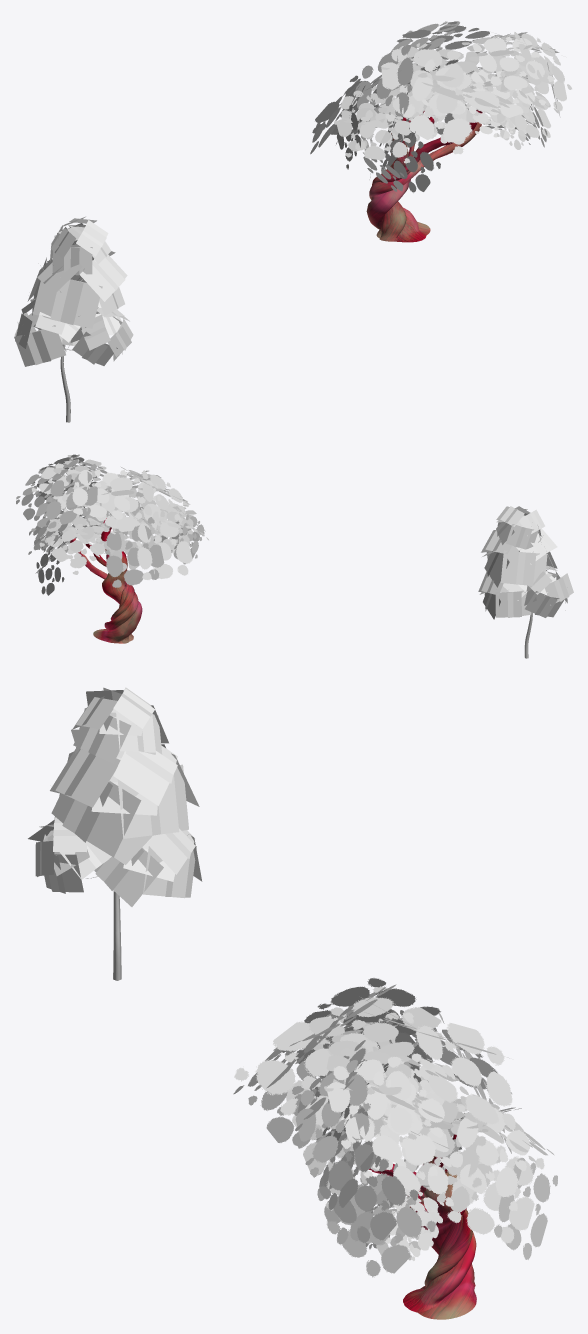
File: testbäume1 (1).fbx
3 views of the same model, one above another, from view 1: azimuth 30°, elevation 25°; view 2: azimuth 150°, elevation 25°; view 3: azimuth 270°, elevation 25° (orthographic). The views are drawn at different scales.
Parts seen in each view (by area): view 1: Plane.002, Plane.005, Untitled-2.2249; view 2: Plane.002, Plane.005, Untitled-2.2249; view 3: Plane.002, Plane.005, Untitled-2.2249.
Boxes of the visible parts, box(x1,y1,x2,y2) form: Plane.002: box(310, 21, 571, 192); Plane.005: box(14, 216, 133, 422); Untitled-2.2249: box(366, 110, 482, 242); Plane.002: box(16, 454, 208, 595); Plane.005: box(478, 506, 573, 658); Untitled-2.2249: box(70, 518, 142, 643); Plane.002: box(233, 978, 557, 1277); Plane.005: box(28, 687, 202, 980); Untitled-2.2249: box(369, 1134, 476, 1319).
Bounding box in the file's own units: 5184 × 1672 × 2512.
